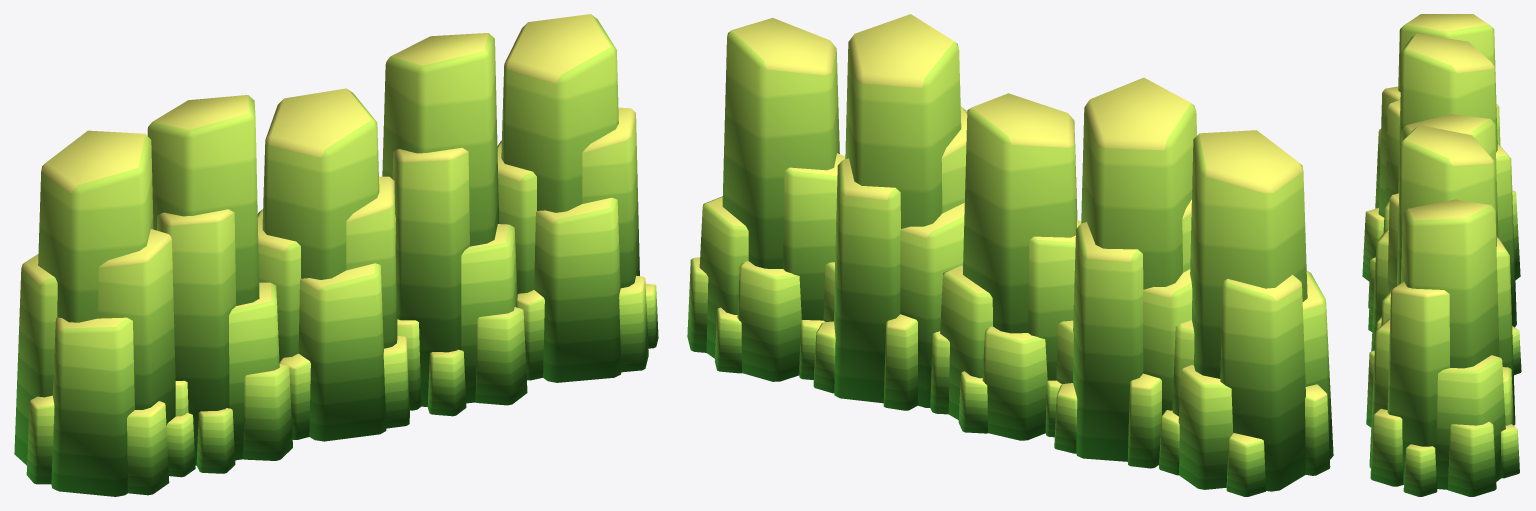
Rendered from cliff_007.fbx.
3 views of the same model, side by side, from view 1: azimuth 30°, elevation 25°; view 2: azimuth 150°, elevation 25°; view 3: azimuth 270°, elevation 25° (orthographic). The views are drawn at different scales.
Parts seen in each view (by area): view 1: cliff.007; view 2: cliff.007; view 3: cliff.007.
Part boxes in pixels (<box>): cliff.007: <box>14,14,658,496</box>; cliff.007: <box>687,14,1333,496</box>; cliff.007: <box>1362,14,1521,496</box>.
Bounding box in the file's own units: 162 × 84.47 × 43.06.
